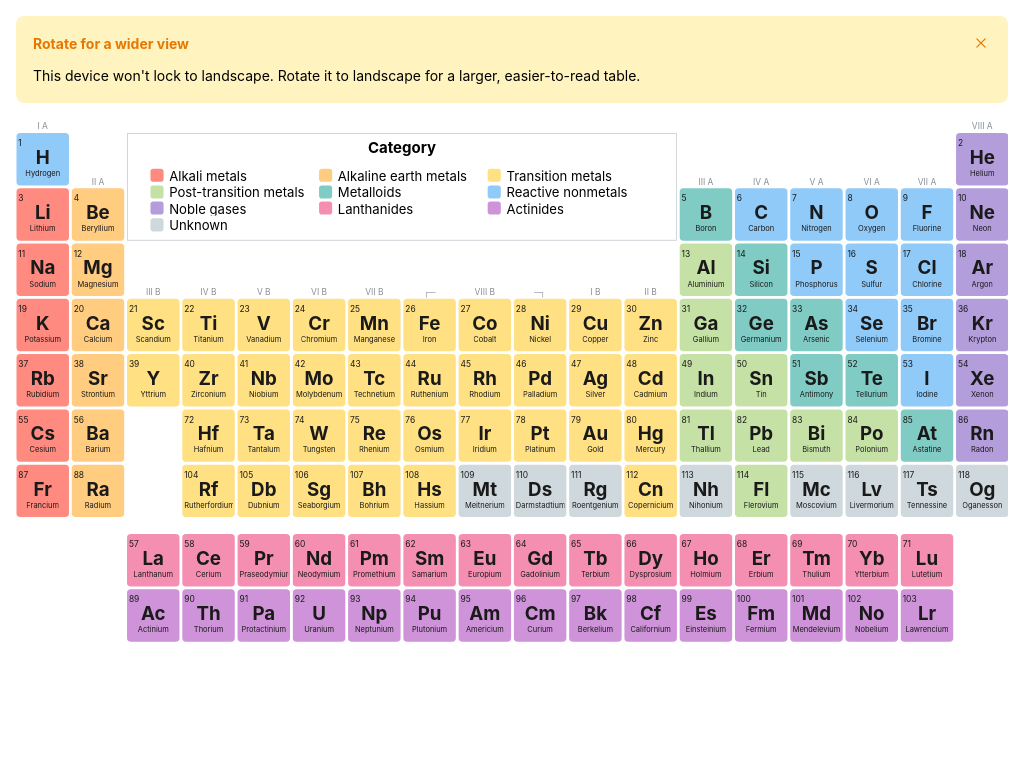
it: PeriodicTable orientation notice › has a labelled 'Dismiss' close button that hides the notice
Click the button named "Dismiss": {"x": 981, "y": 43} top-left (971, 33), bottom-right (991, 53)
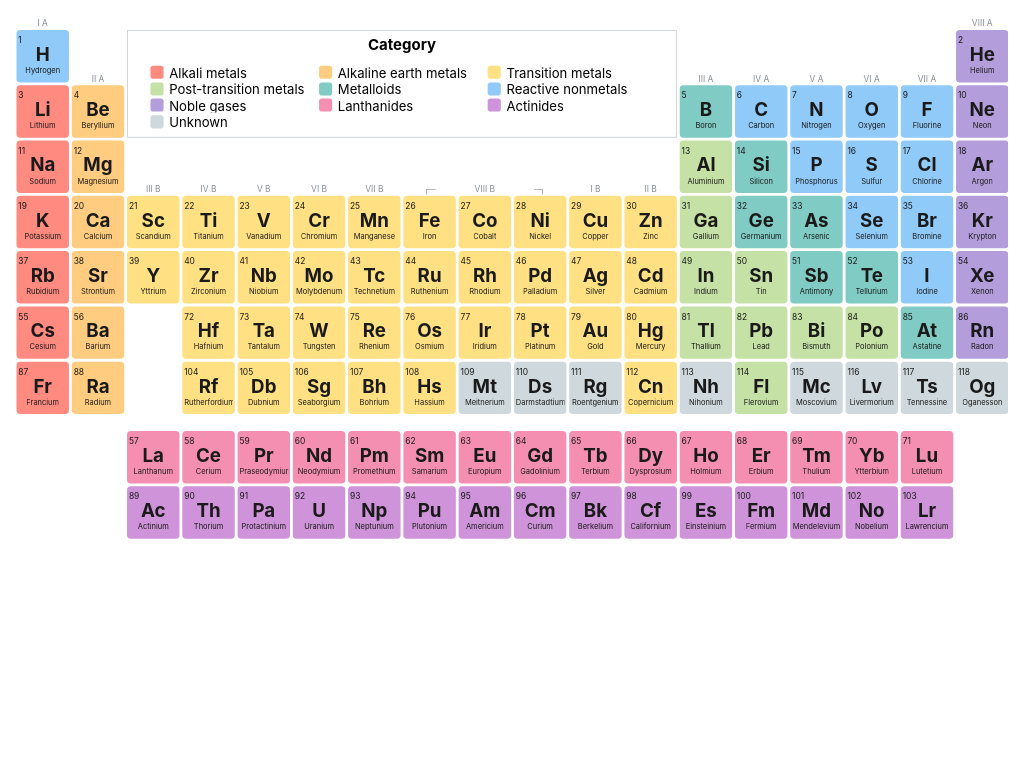
Now the text "Rotate for a wider view" is gone
